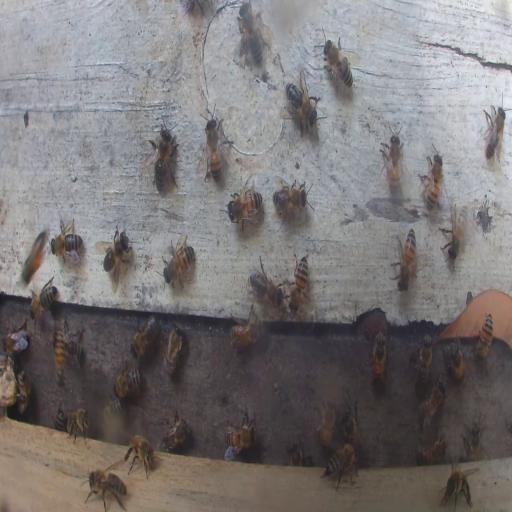nonpollenbee: (282, 74, 323, 134), (99, 222, 132, 286), (152, 120, 178, 195), (84, 467, 128, 511), (162, 234, 196, 290), (322, 34, 356, 90), (439, 458, 474, 511), (440, 200, 468, 265), (202, 105, 224, 185), (322, 444, 358, 492), (272, 177, 312, 219), (482, 102, 507, 166), (249, 260, 282, 308), (229, 184, 263, 230), (420, 147, 444, 211), (394, 226, 417, 292), (56, 314, 83, 368), (51, 216, 84, 260), (239, 4, 262, 67), (232, 302, 262, 350), (380, 128, 402, 192), (416, 378, 445, 426), (224, 411, 257, 453), (124, 435, 154, 479), (29, 276, 57, 322), (130, 317, 158, 359), (411, 334, 432, 388), (340, 400, 363, 448), (160, 413, 190, 449), (113, 363, 142, 399), (164, 324, 184, 376), (292, 253, 309, 310), (464, 417, 486, 460), (2, 321, 29, 356), (417, 433, 446, 465), (476, 313, 494, 362), (443, 342, 466, 380), (318, 400, 336, 447), (68, 406, 90, 444), (371, 330, 387, 382), (55, 326, 68, 387), (14, 367, 30, 416), (287, 442, 309, 466), (55, 406, 67, 433)
pollenbee: (21, 225, 49, 288)
